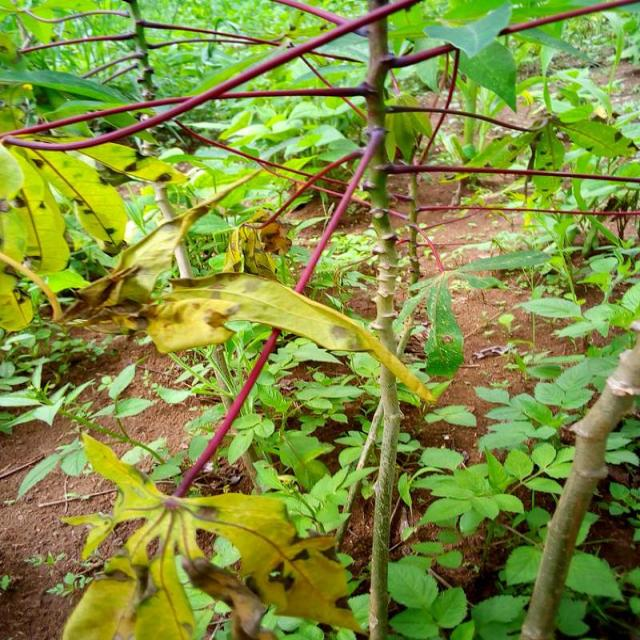cassava leaf: (156, 269, 438, 403)
